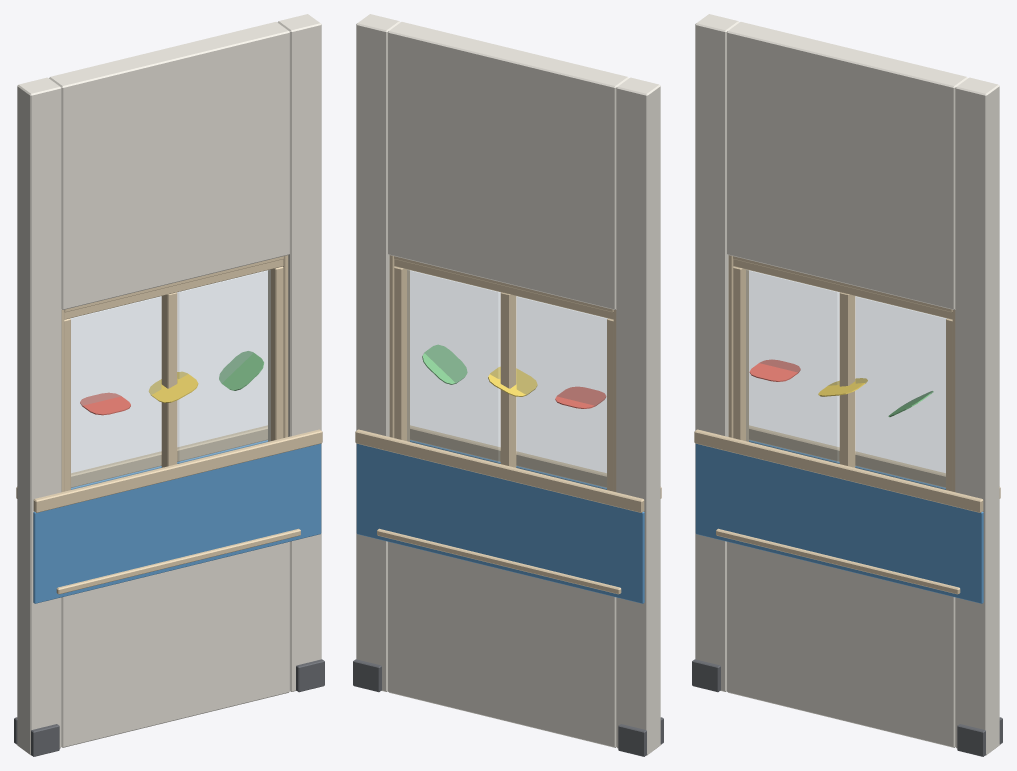
Rendered from nursery-and-primary-classroom-classroom-wall-window-mo-6a89cb01__35022.glb.
The picture shows the model from 3 angles, left to right: view 1: azimuth 30°, elevation 25°; view 2: azimuth 150°, elevation 25°; view 3: azimuth 330°, elevation 25°; orthographic projection.
Parts seen in each view (by area): view 1: classroom-wall-window-module; view 2: classroom-wall-window-module; view 3: classroom-wall-window-module.
Part boxes in pixels (x1,y1,x2,y2): classroom-wall-window-module: (14,14,324,756); classroom-wall-window-module: (353,14,663,756); classroom-wall-window-module: (692,14,1002,756).
Bounding box in the file's own units: 1.2 × 2.6 × 0.185.
